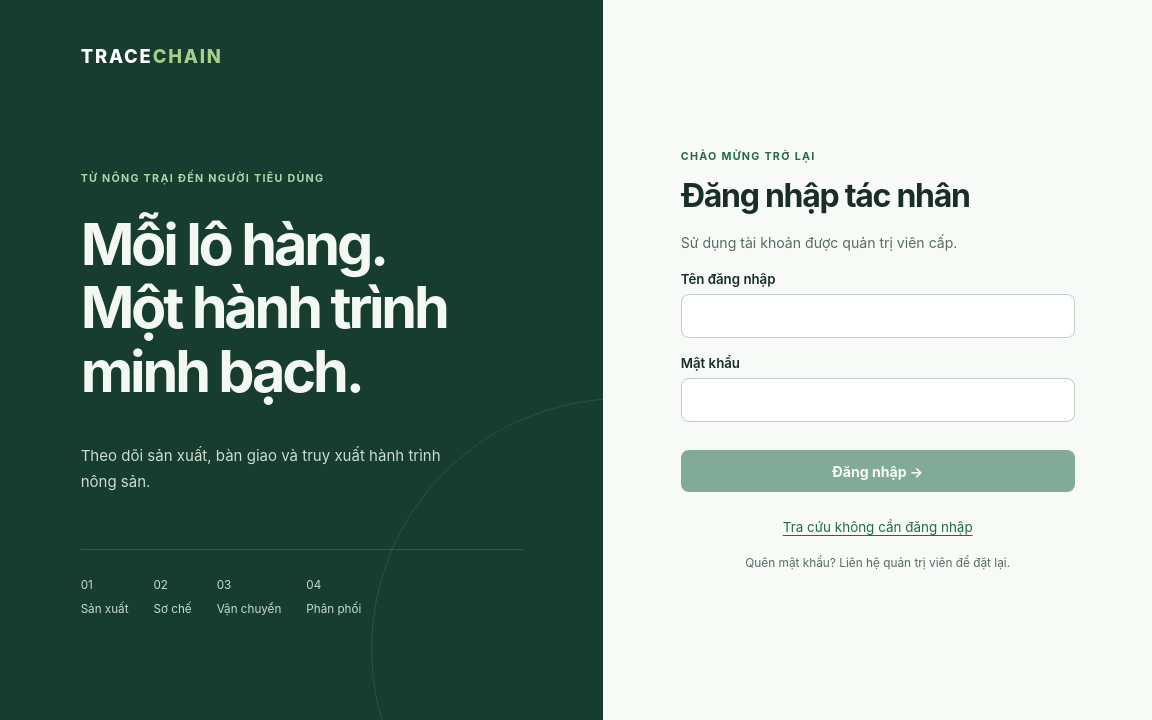
Scenario: prevents repeated login submits and displays server error
Step 1. Type "farmer" into the field labelled "Tên đăng nhập" → (878, 316), box 681,294 -> 1075,338
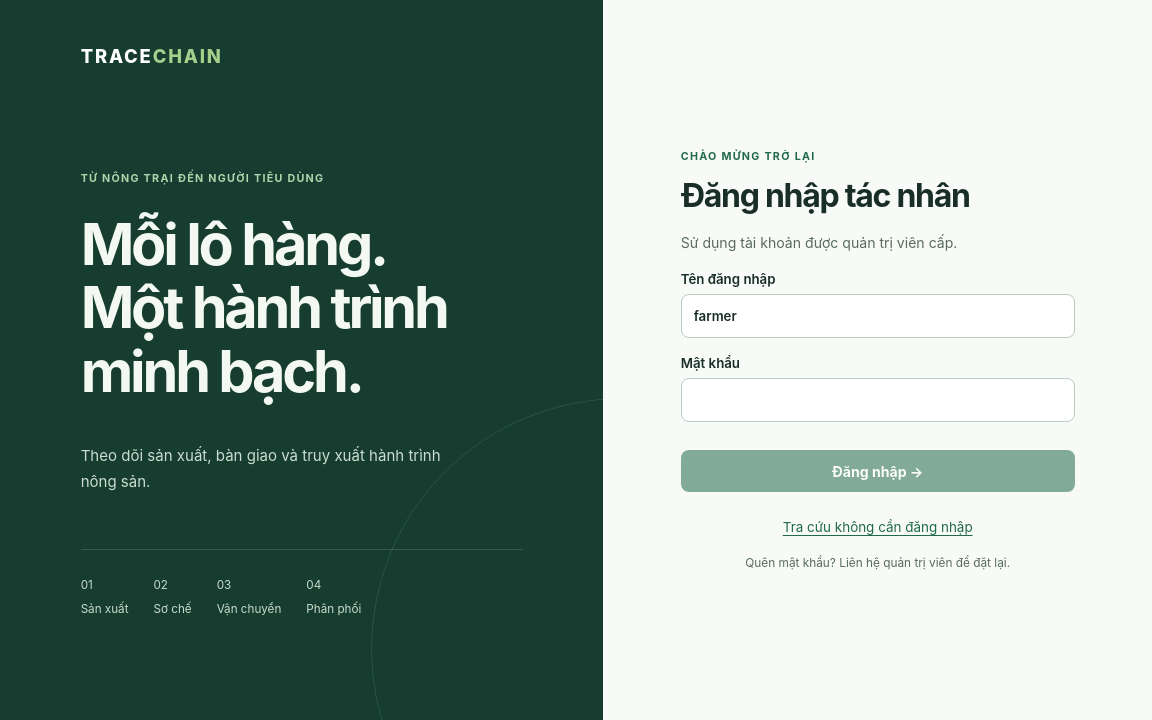
Step 2. Type "wrong" into the password field labelled "Mật khẩu" → (878, 400), box 681,378 -> 1075,422
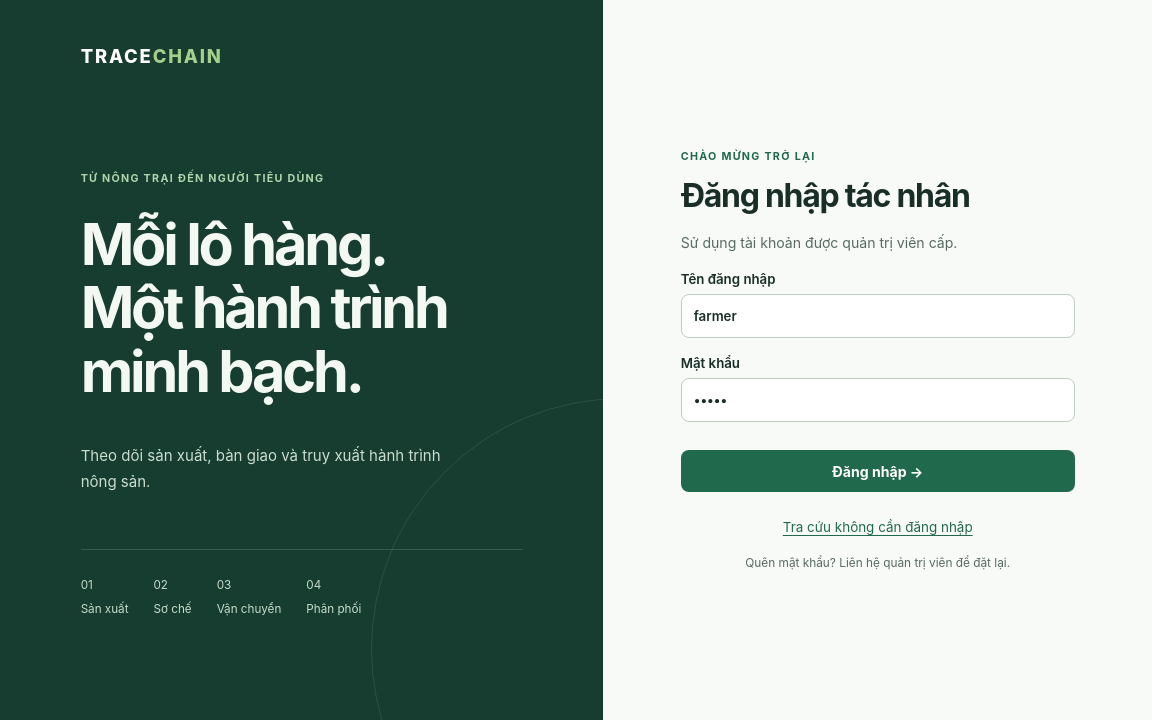
Step 3. Click the button "Đăng nhập →" → (878, 471), box 681,450 -> 1075,492
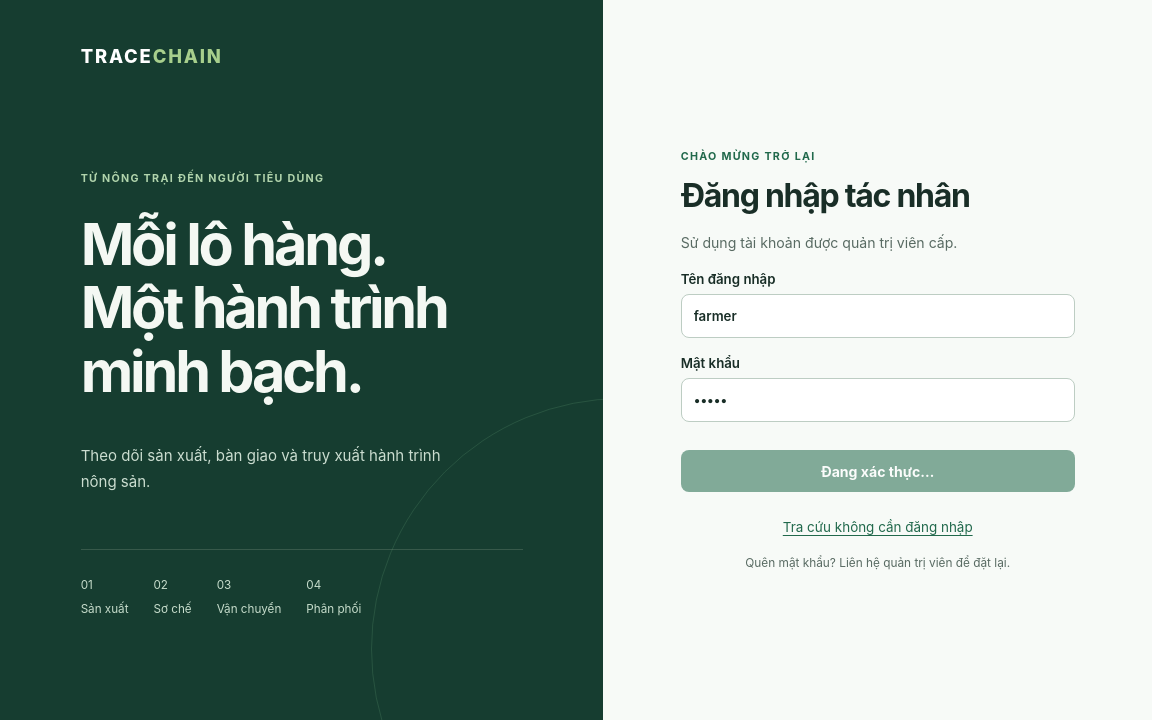
Expected: the button named "Đăng nhập →" is disabled
Step 4. Click the button named "Đăng nhập →" → (878, 471), box 681,450 -> 1075,492
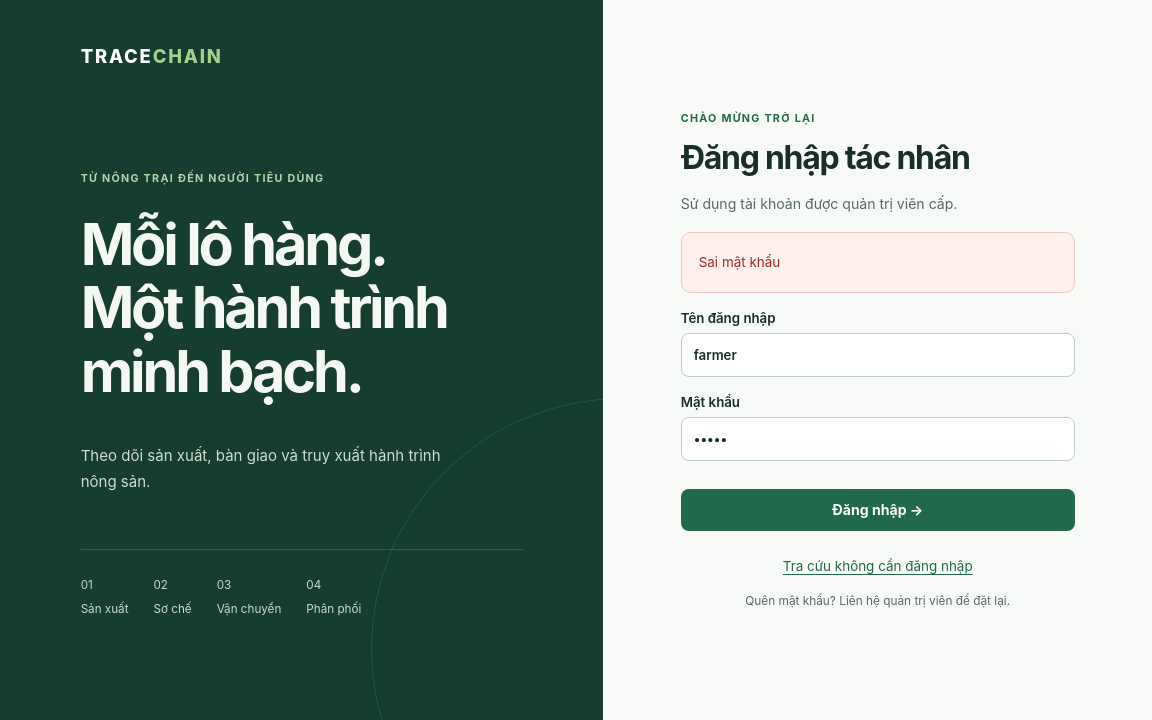
Expected: the message reads "Sai mật khẩu", 699,254 -> 780,270
